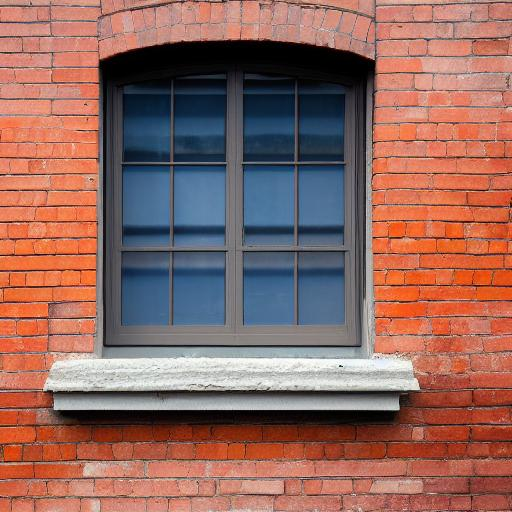Window: (40, 0, 424, 417)
